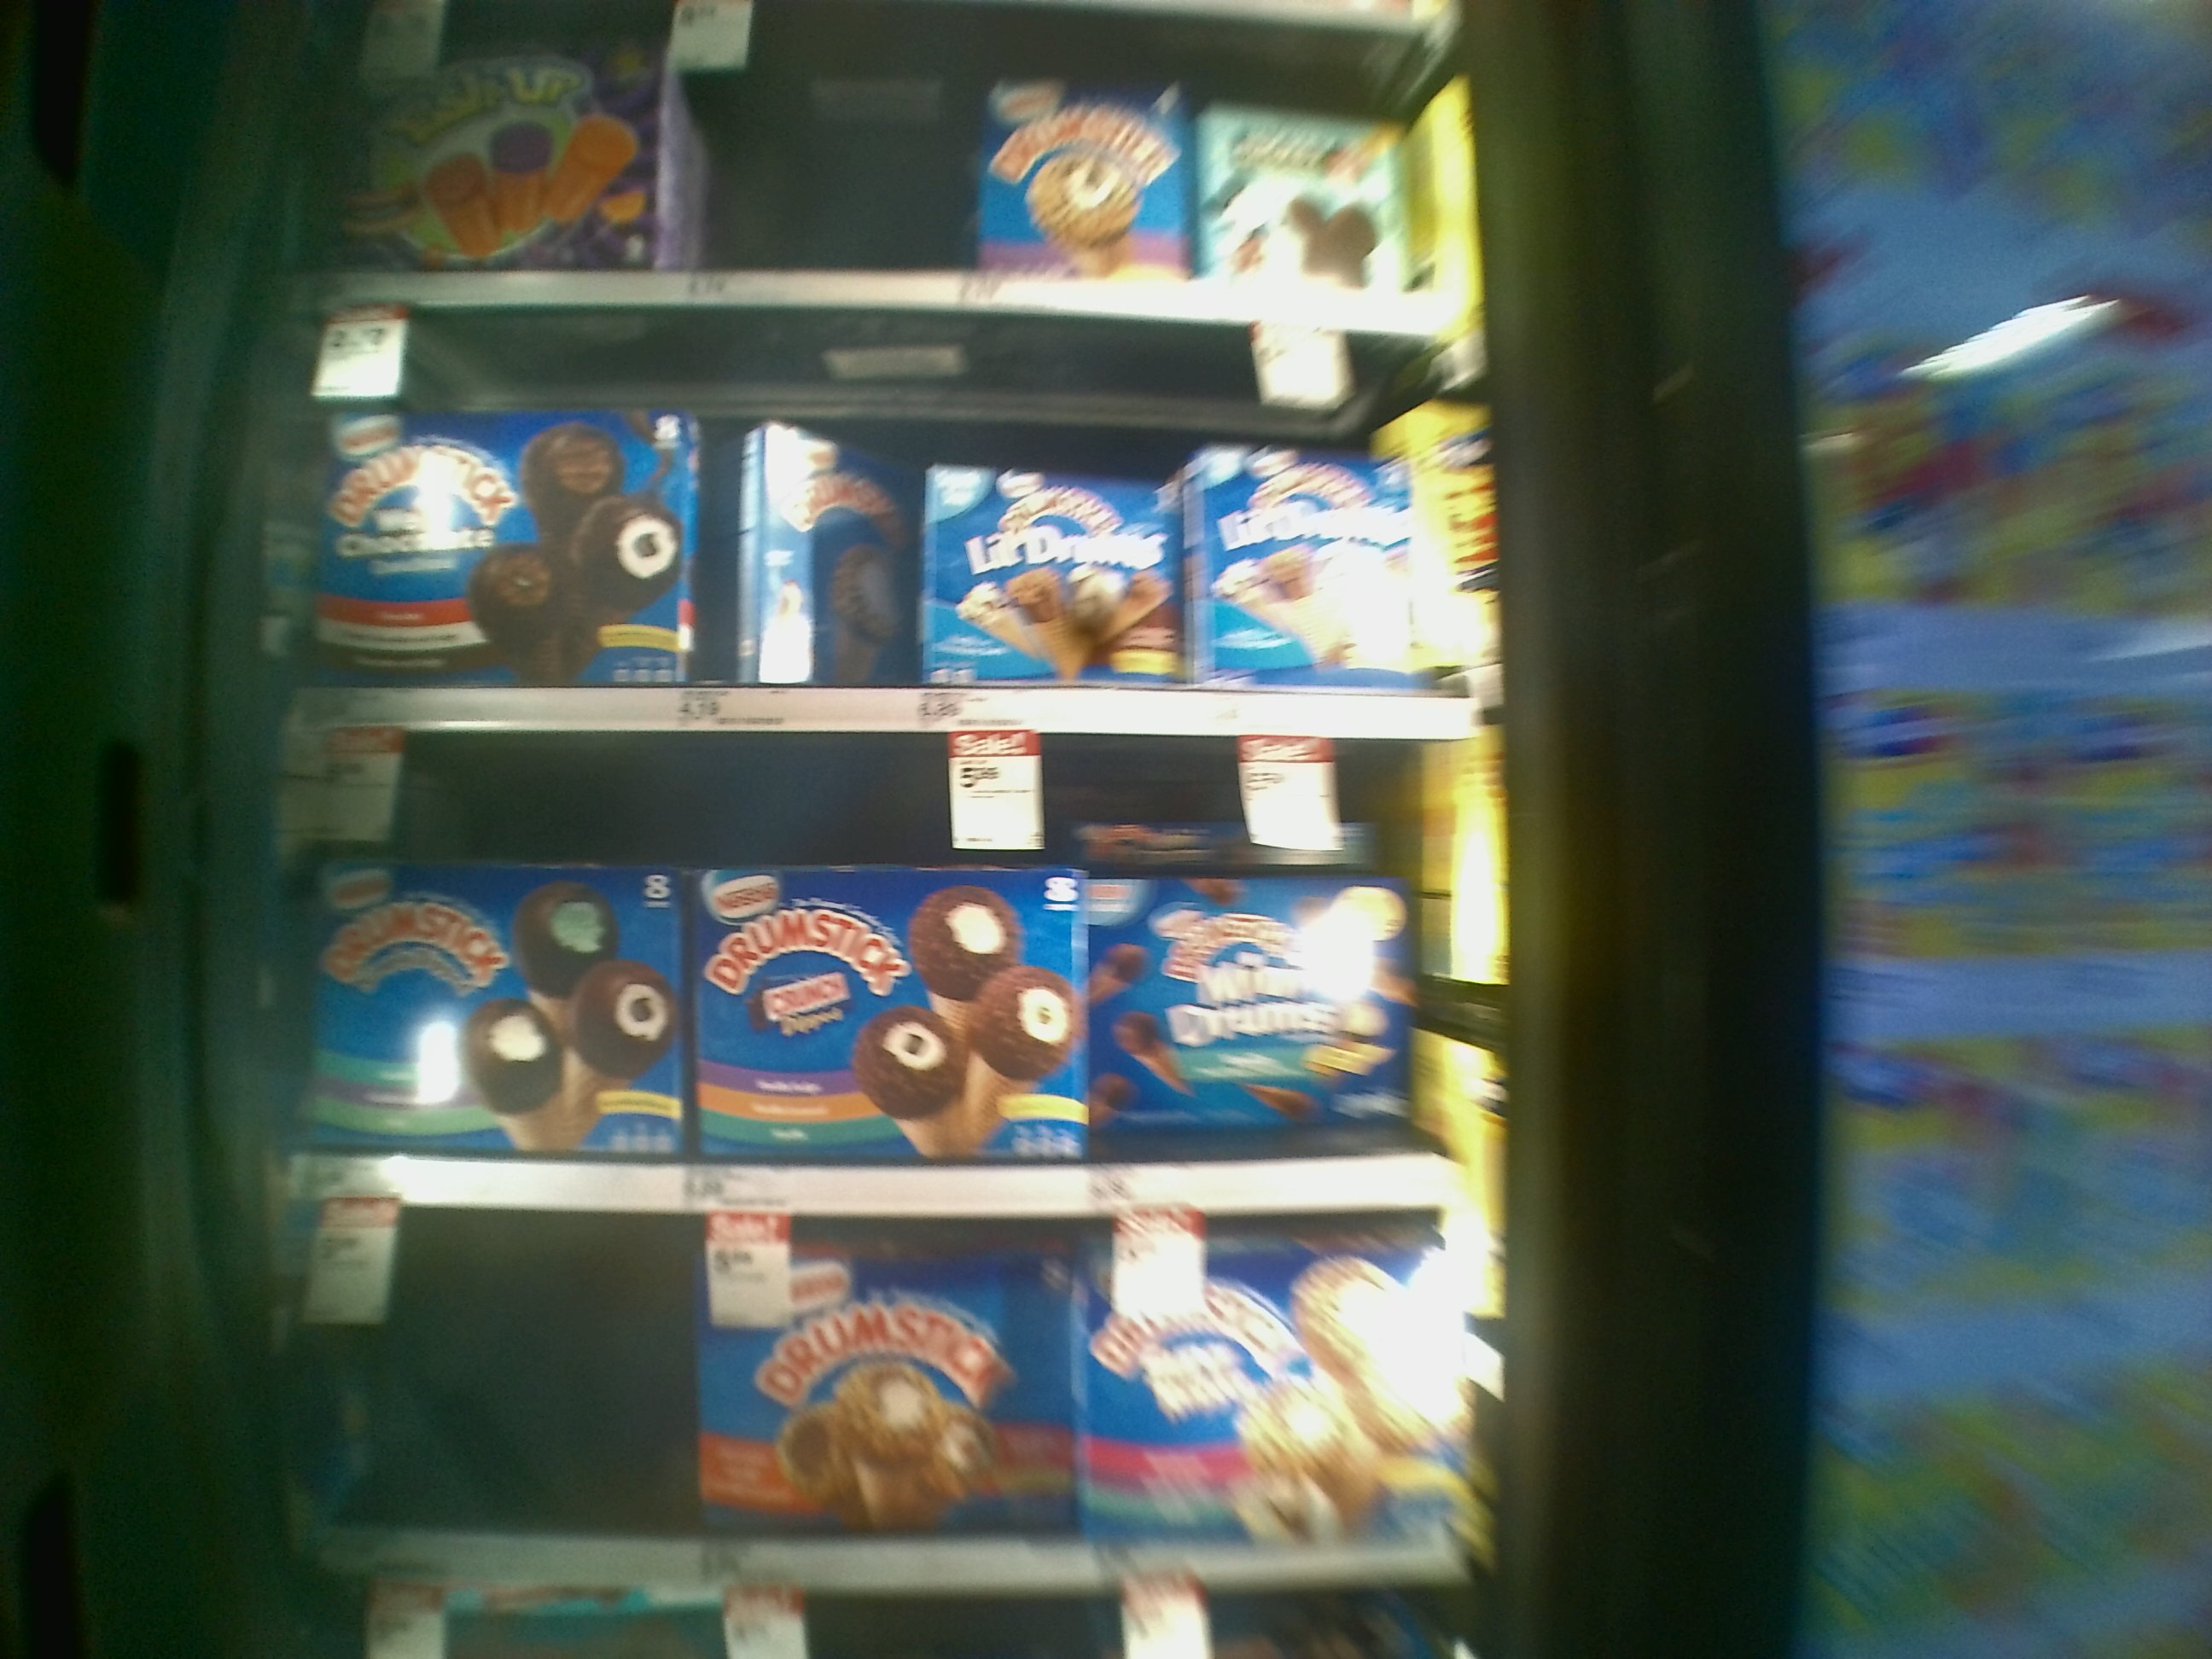shelf: (275, 728, 1479, 1211), (286, 305, 1468, 734), (279, 1211, 1480, 1595)
